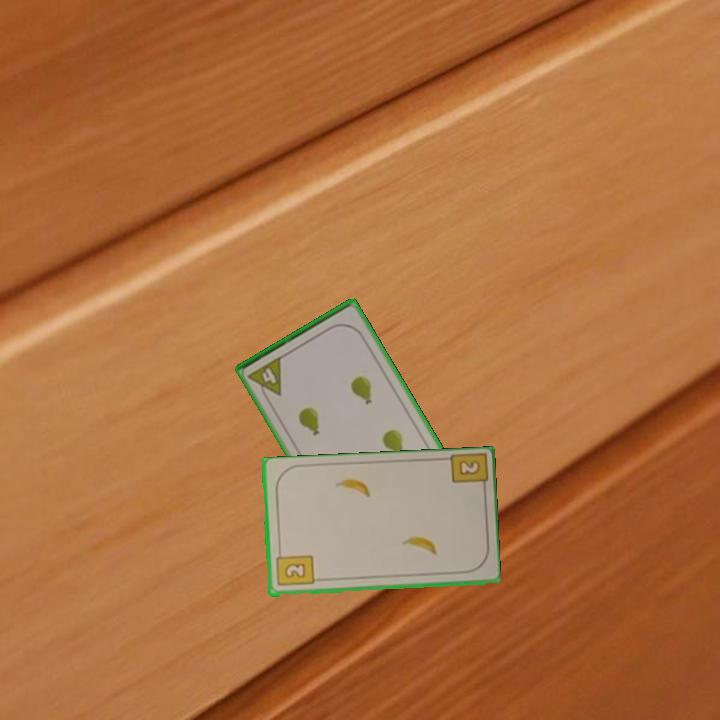2b: (445, 451, 488, 496), (273, 547, 316, 589)
4p: (245, 353, 285, 404)
